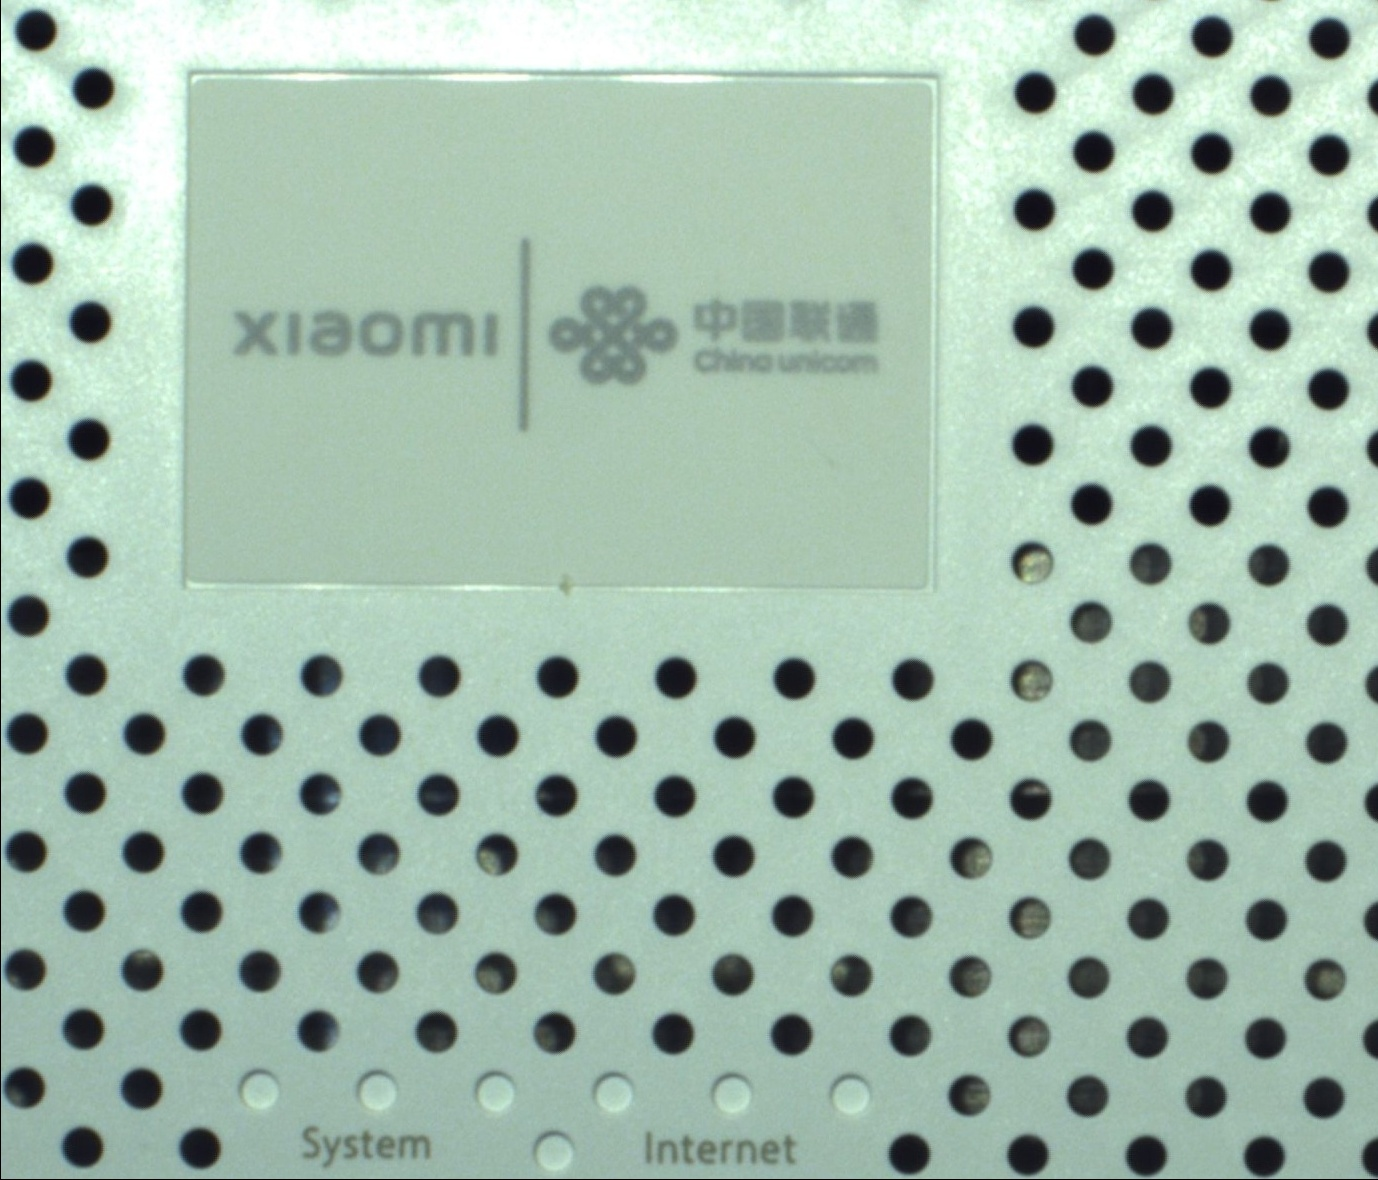MAC_NewUnicom: (227, 234, 894, 430)
